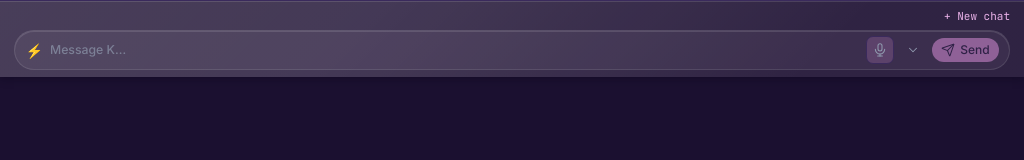
MessageDock › the expander reveals the model + force-route selects
Click the button with test id "dock-expander": (913, 50) [901,38,925,62]
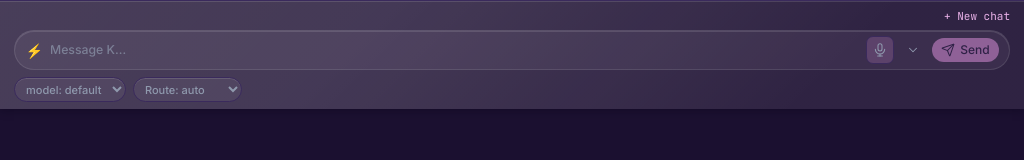
Expected: the dropdown with test id "dock-model-select" is shown, [14,77,126,102]
Expected: the dropdown with test id "dock-force-route" is shown, [133,77,242,102]
